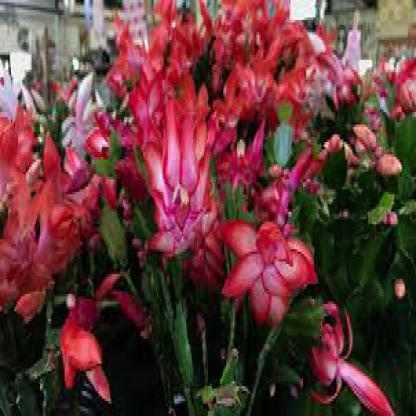Aglonema: (97, 355, 416, 416)
